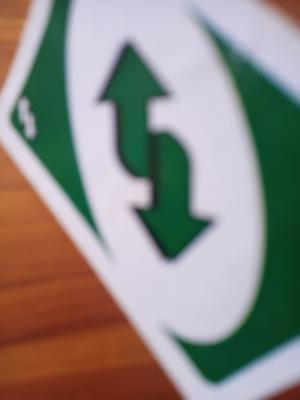green: (27, 70, 300, 181)
